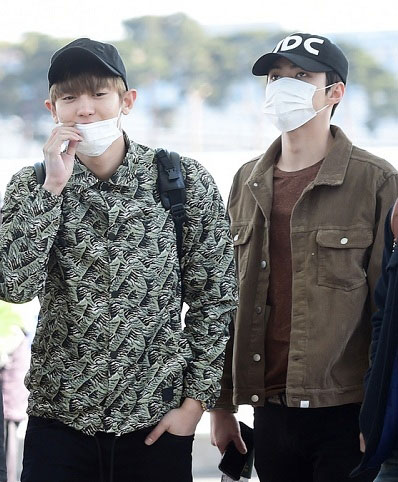face_mask: (54, 68, 120, 156), (267, 53, 321, 132)
